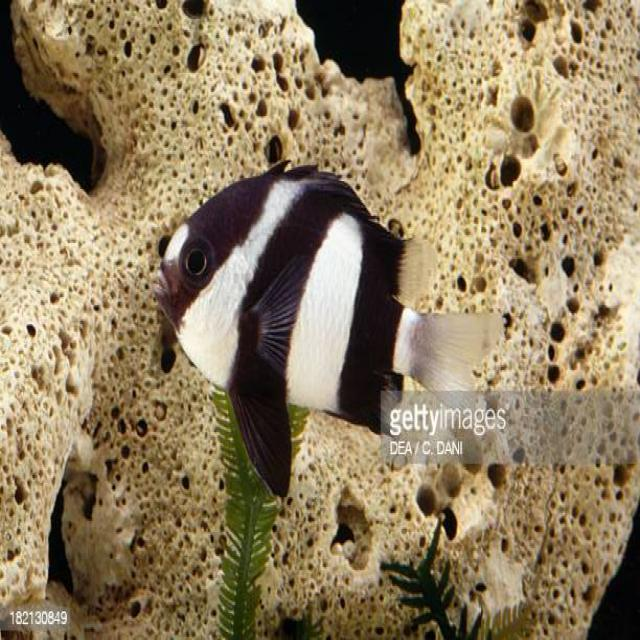Three_striped DasmselFish: (157, 160, 494, 486)
